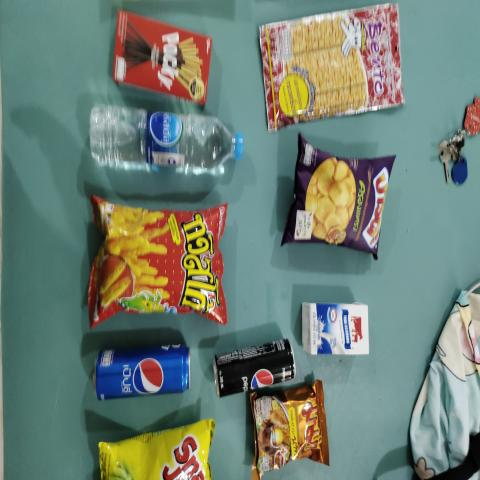bento_red: (270, 0, 396, 125)
crystal: (88, 106, 245, 169)
mama: (257, 391, 322, 474)
party_purple: (290, 152, 392, 244)
pepsi_black: (210, 339, 294, 395)
pepsi_blue: (89, 349, 193, 401)
pokki: (106, 27, 215, 82)
thai_denmark: (302, 301, 368, 354)
twisco: (96, 207, 223, 317)
